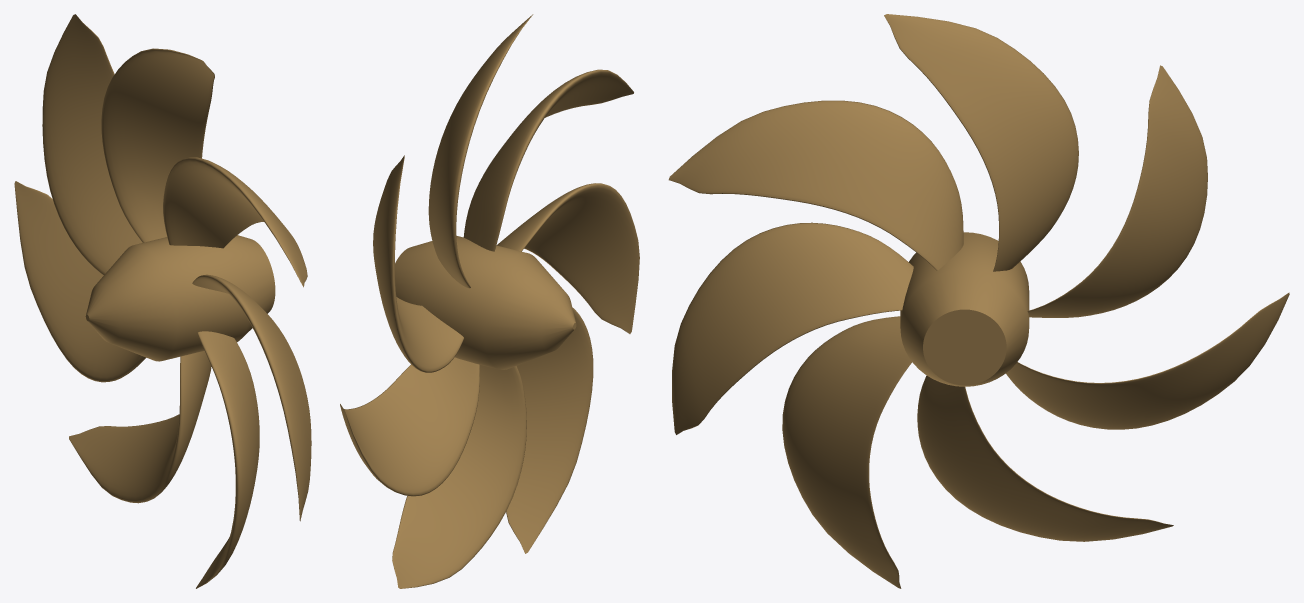
Rendered from RU_SSN_Akula_PROP.fbx.
3 views of the same model, side by side, from view 1: azimuth 30°, elevation 25°; view 2: azimuth 150°, elevation 25°; view 3: azimuth 270°, elevation 25° (orthographic). The views are drawn at different scales.
Parts seen in each view (by area): view 1: RU_SSN_Akula_PROP; view 2: RU_SSN_Akula_PROP; view 3: RU_SSN_Akula_PROP.
Boxes of the visible parts, x1=… form: RU_SSN_Akula_PROP: x1=14, y1=14, x2=311, y2=588; RU_SSN_Akula_PROP: x1=340, y1=14, x2=639, y2=588; RU_SSN_Akula_PROP: x1=668, y1=14, x2=1289, y2=588.
Size of the model in its own units: 1.4 by 4.15 by 4.24.
